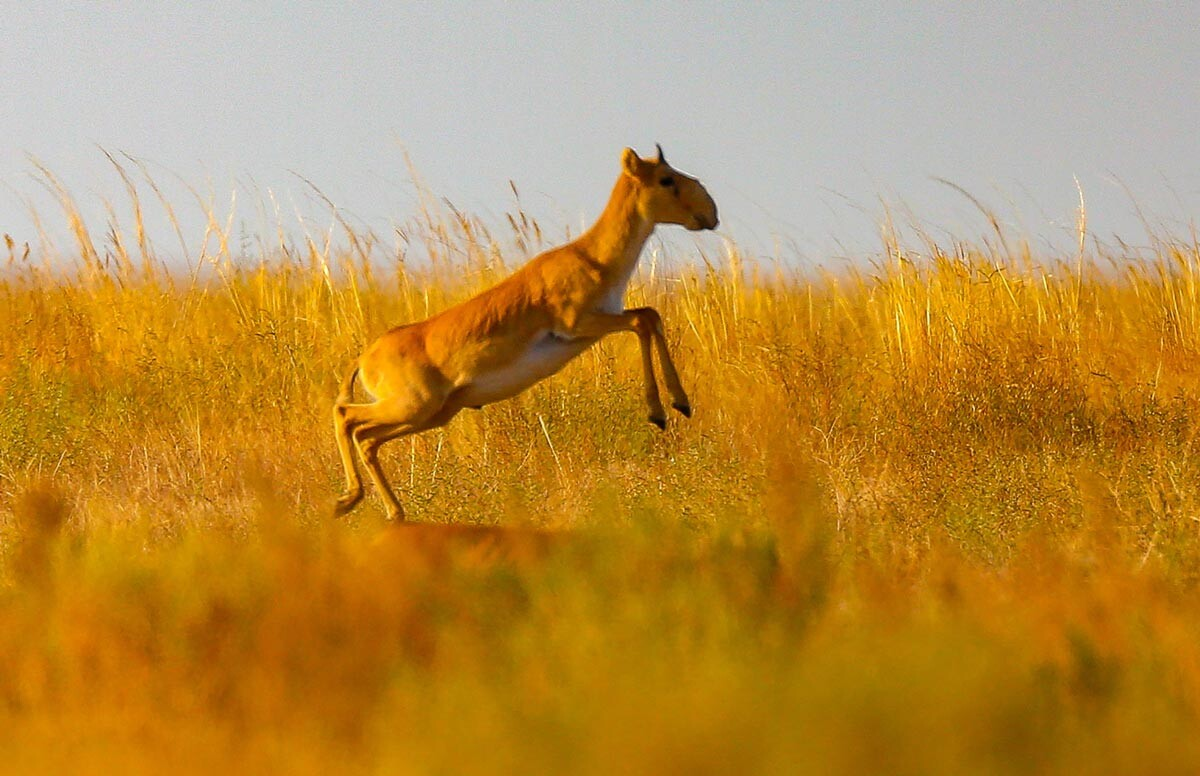saiga: (323, 142, 720, 533)
